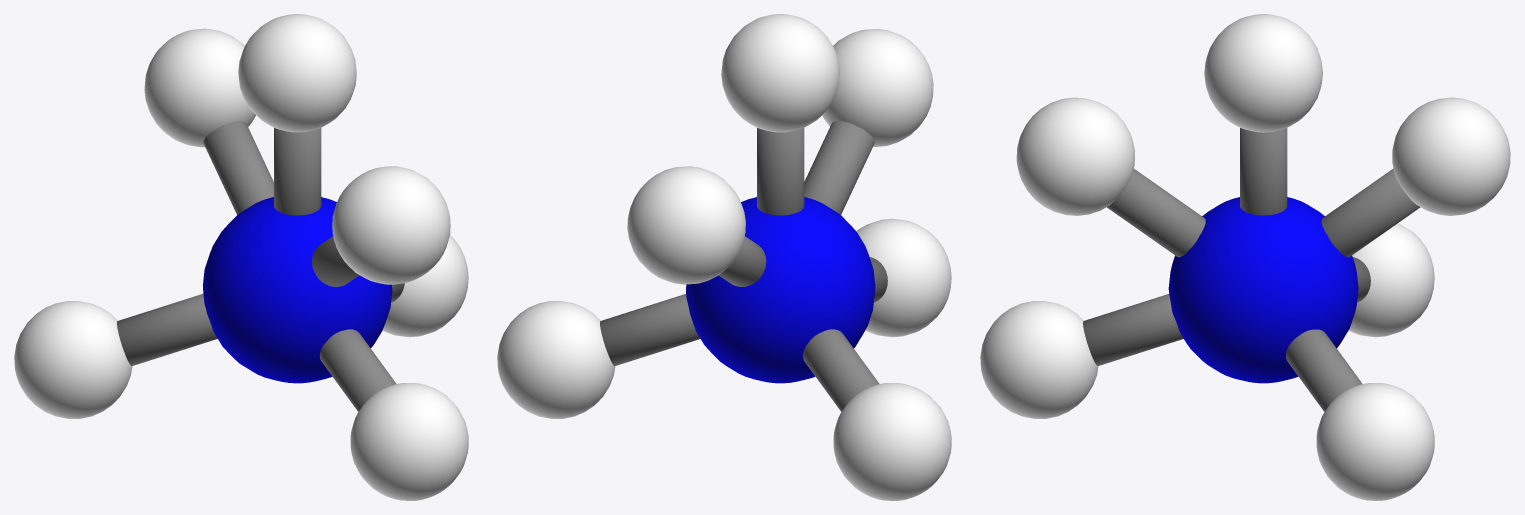
Rendered from Methane Water Ammonia.fbx.
The picture shows the model from 3 angles, left to right: view 1: azimuth 30°, elevation 25°; view 2: azimuth 150°, elevation 25°; view 3: azimuth 270°, elevation 25°; orthographic projection.
Visible parts, largest first — view 1: Nitrogen, hydrogen, hydrogen.004, hydrogen.008, hydrogen.006, hydrogen.005, hydrogen.007, bond.006, bond.005, bond, bond.008, bond.004; view 2: Nitrogen, hydrogen.006, hydrogen, hydrogen.005, hydrogen.007, hydrogen.004, hydrogen.008, bond.007, bond.004, bond, bond.006, bond.005; view 3: Nitrogen, hydrogen, hydrogen.007, hydrogen.005, hydrogen.004, hydrogen.008, hydrogen.006, bond.008, bond.004, bond.005, bond, bond.007.
Part boxes in pixels (left/top/right/bottom): Nitrogen: left=203, top=197, right=392, bottom=383; hydrogen: left=238, top=14, right=356, bottom=132; hydrogen.004: left=332, top=166, right=450, bottom=284; hydrogen.008: left=350, top=383, right=468, bottom=500; hydrogen.006: left=14, top=301, right=132, bottom=418; hydrogen.005: left=144, top=28, right=255, bottom=147; hydrogen.007: left=382, top=235, right=468, bottom=337; bond.006: left=117, top=294, right=217, bottom=365; bond.005: left=203, top=121, right=273, bottom=214; bond: left=274, top=128, right=321, bottom=215; bond.008: left=319, top=329, right=396, bottom=411; bond.004: left=312, top=236, right=359, bottom=286; Nitrogen: left=686, top=197, right=875, bottom=383; hydrogen.006: left=833, top=383, right=951, bottom=500; hydrogen: left=721, top=14, right=839, bottom=132; hydrogen.005: left=627, top=166, right=745, bottom=284; hydrogen.007: left=497, top=301, right=615, bottom=418; hydrogen.004: left=822, top=28, right=933, bottom=146; hydrogen.008: left=856, top=218, right=951, bottom=337; bond.007: left=600, top=294, right=700, bottom=365; bond.004: left=804, top=121, right=874, bottom=214; bond: left=757, top=128, right=804, bottom=215; bond.006: left=803, top=329, right=879, bottom=411; bond.005: left=718, top=236, right=766, bottom=286; Nitrogen: left=1168, top=197, right=1358, bottom=383; hydrogen: left=1204, top=14, right=1322, bottom=132; hydrogen.007: left=1316, top=383, right=1434, bottom=500; hydrogen.005: left=1392, top=97, right=1510, bottom=215; hydrogen.004: left=1016, top=97, right=1134, bottom=215; hydrogen.008: left=980, top=301, right=1098, bottom=418; hydrogen.006: left=1348, top=223, right=1434, bottom=337; bond.008: left=1083, top=294, right=1183, bottom=365; bond.004: left=1107, top=169, right=1205, bottom=257; bond.005: left=1321, top=168, right=1420, bottom=257; bond: left=1240, top=128, right=1287, bottom=215; bond.007: left=1286, top=329, right=1362, bottom=411.
Size of the model in its own units: 427 by 366 by 447.
